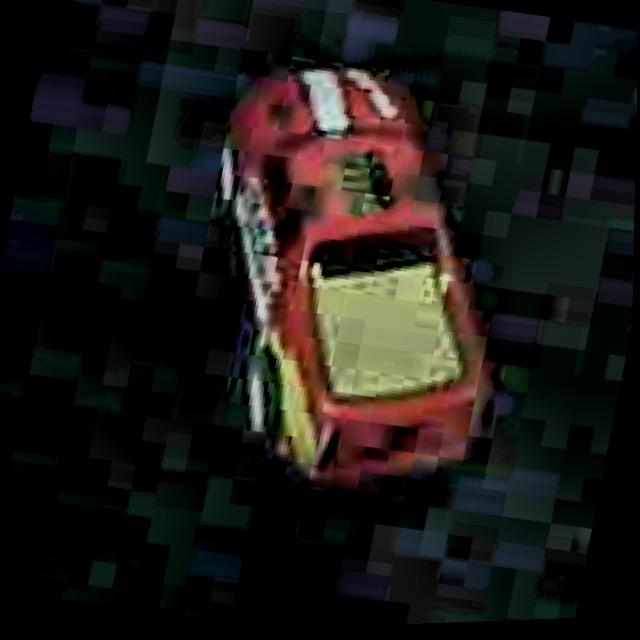car: (149, 31, 556, 525)
